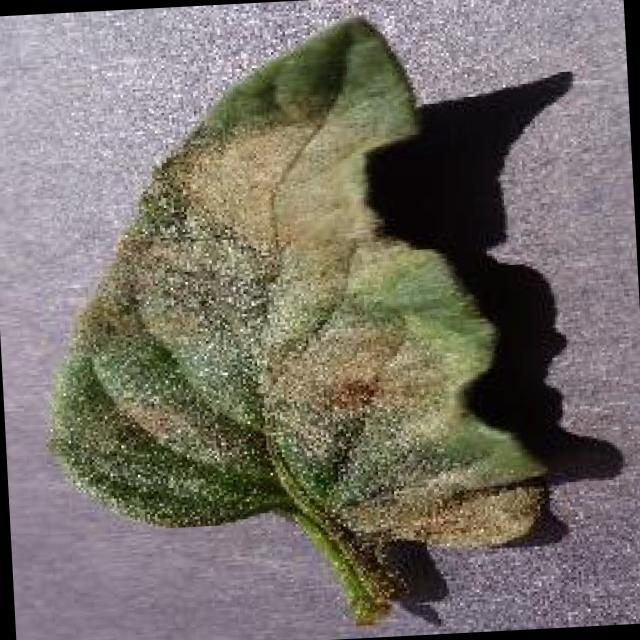Tomato_Late_Blight: (22, 6, 550, 577)
